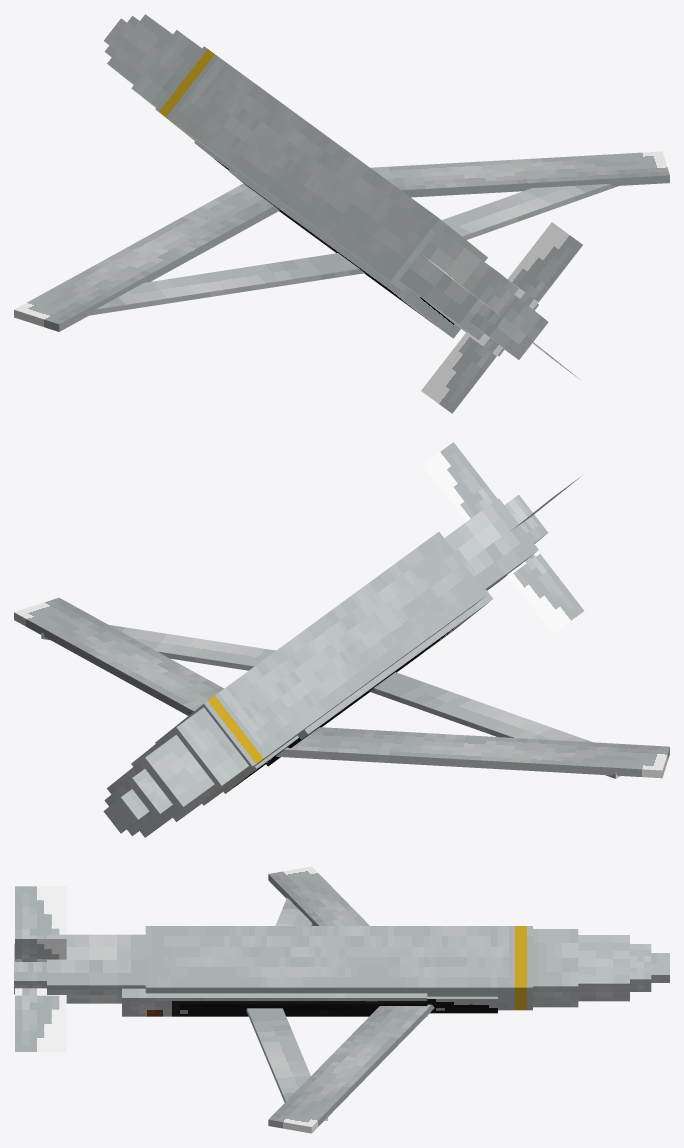
Rendered from gbu39.obj.
3 views of the same model, one above another, from view 1: azimuth 30°, elevation 25°; view 2: azimuth 150°, elevation 25°; view 3: azimuth 270°, elevation 25° (orthographic). The views are drawn at different scales.
Visible parts, largest first — view 1: wing, body, cube; view 2: wing, body, cube; view 3: body, cube, wing.
Part boxes in pixels (x1,y1,x2,y2): wing: (14,151,669,331); body: (155,46,487,338); cube: (104,14,582,413); wing: (14,597,669,778); body: (155,532,492,805); cube: (103,442,584,837); body: (122,926,532,1016); cube: (14,886,669,1051); wing: (246,866,434,1133).
Size of the model in its own units: 1.64 by 0.3315 by 1.75.
